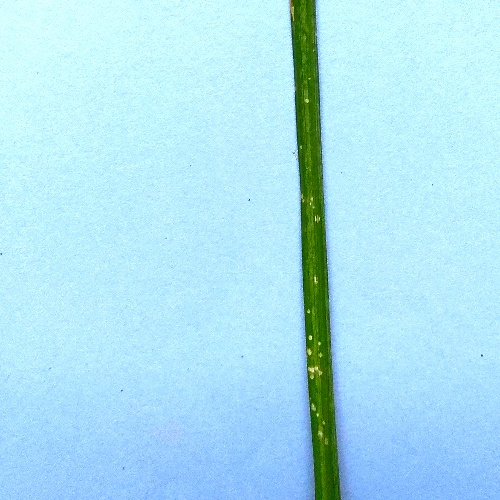Busuk Leher: (299, 331, 325, 386), (308, 400, 328, 444), (305, 193, 325, 229), (307, 268, 324, 296), (299, 84, 317, 110)
